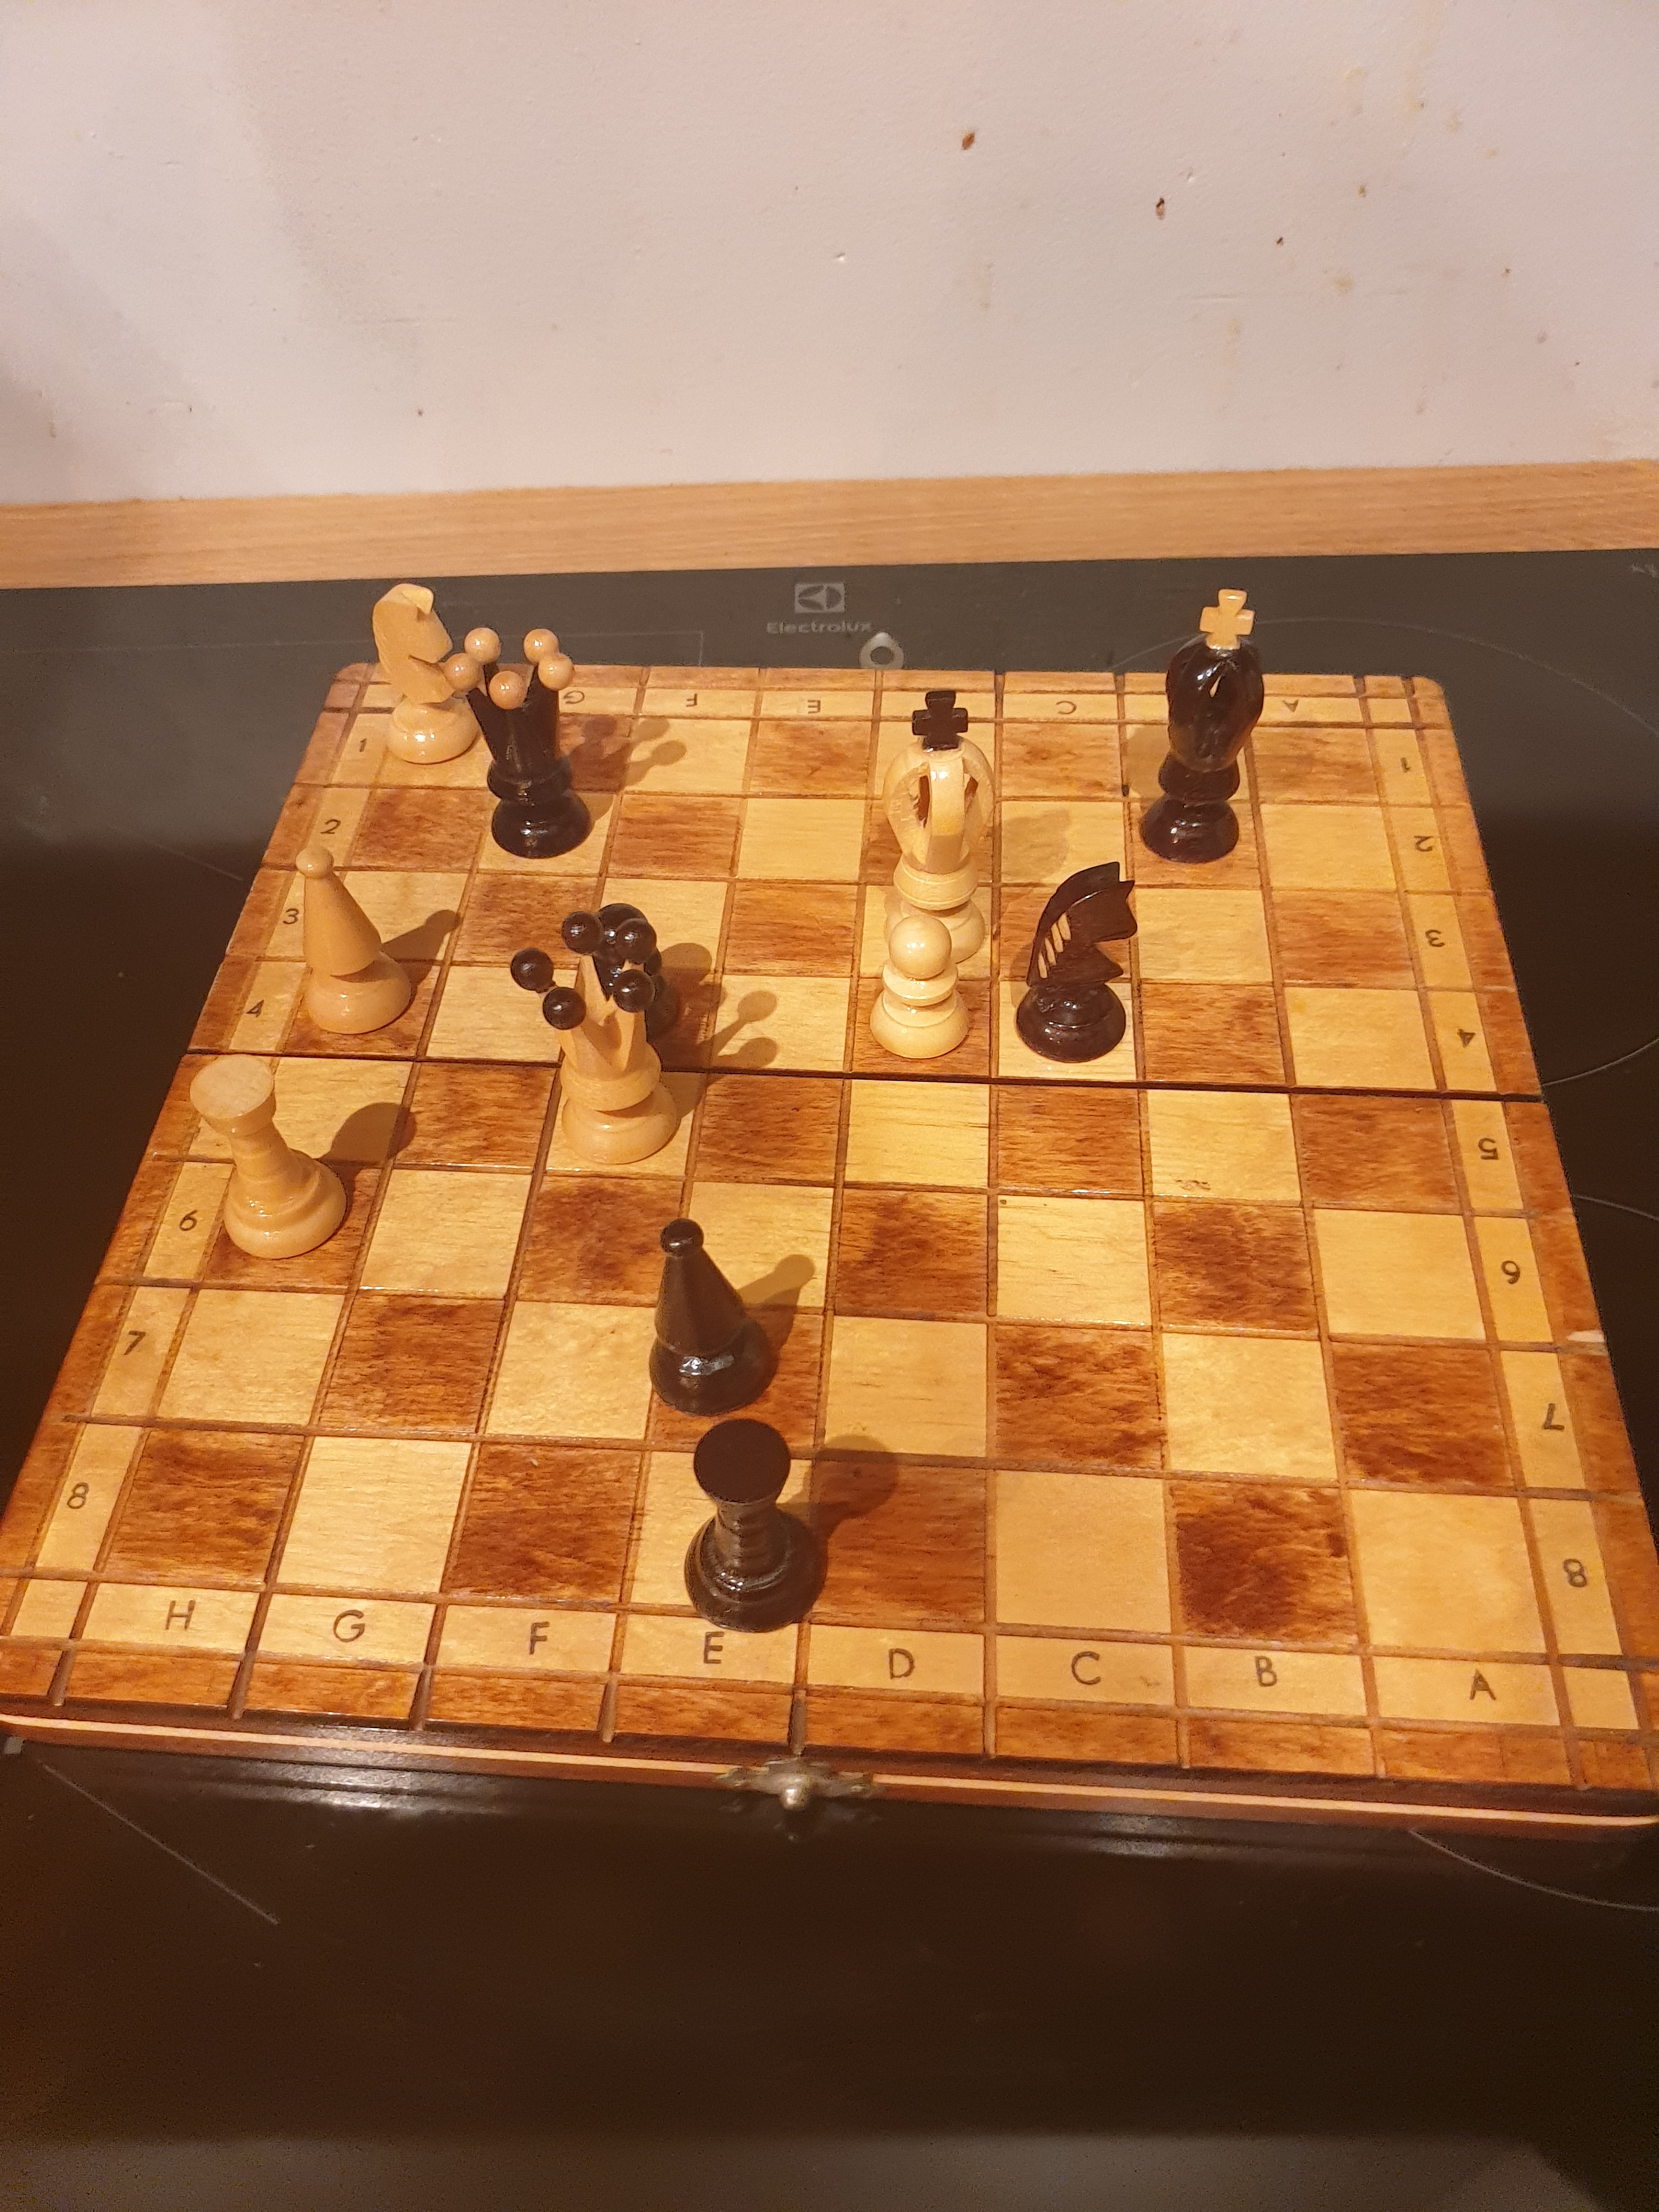bbishop: (629, 1200, 791, 1426)
bking: (1127, 568, 1281, 876)
bknight: (1006, 852, 1154, 1069)
bpawn: (572, 890, 697, 1071)
bqueen: (439, 615, 613, 860)
brook: (674, 1397, 840, 1653)
wbishop: (279, 824, 429, 1064)
wking: (871, 679, 1009, 975)
wknight: (361, 573, 500, 768)
wpawn: (859, 909, 985, 1066)
wqueen: (502, 904, 720, 1188)
wrook: (178, 1043, 373, 1273)
